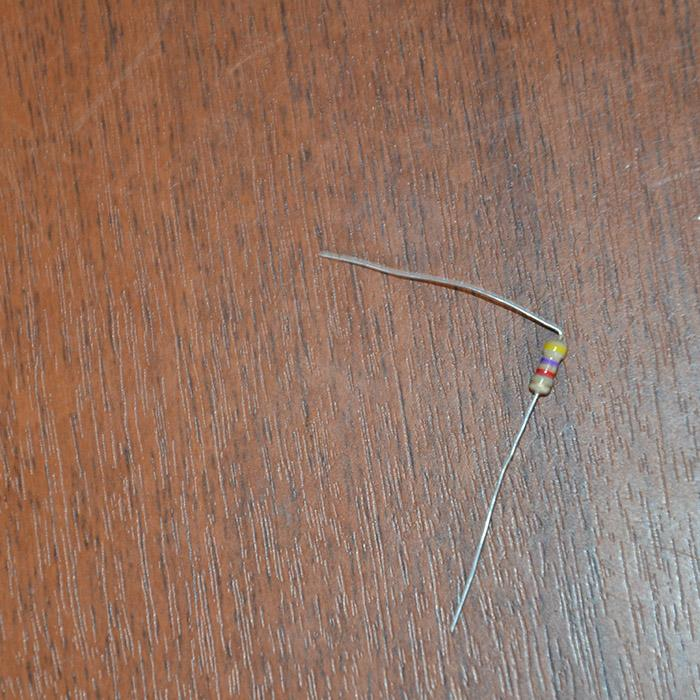resistor: (528, 336, 567, 395)
